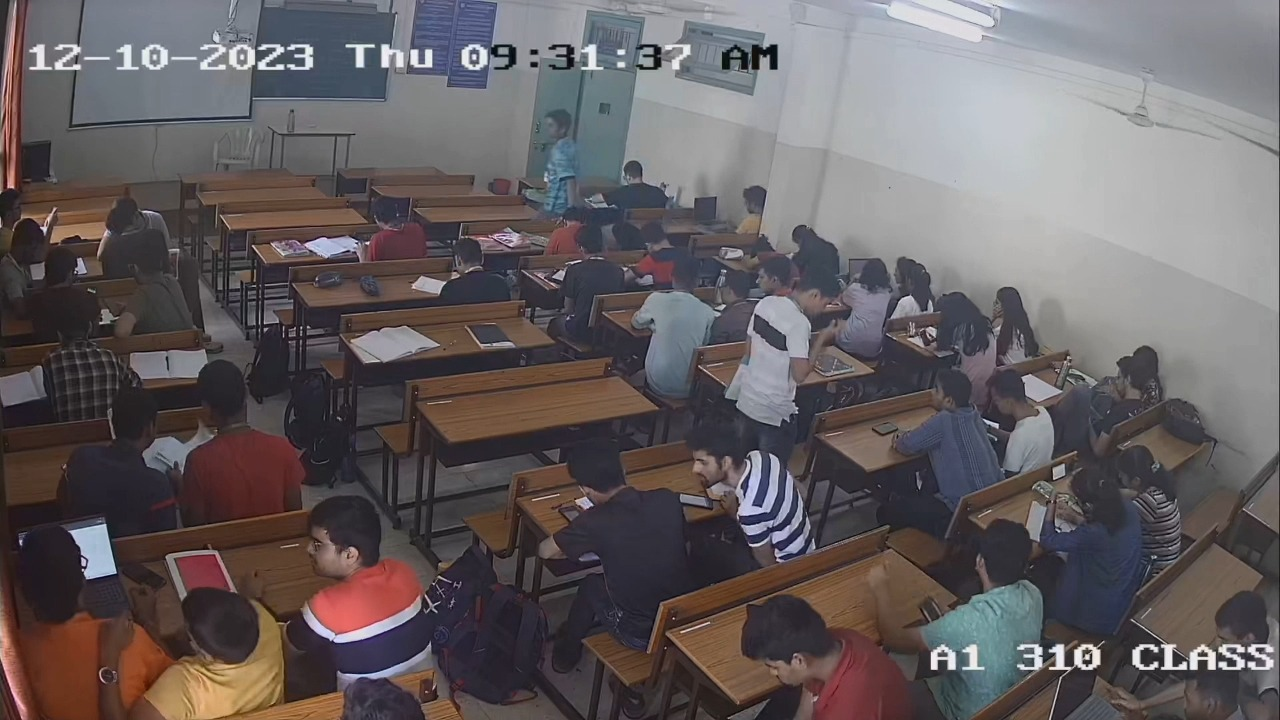cell-phones: (118, 559, 169, 595), (677, 491, 714, 515), (915, 596, 943, 625), (1044, 459, 1072, 485), (558, 502, 584, 525), (870, 421, 899, 438), (1065, 369, 1086, 383)
person: (868, 518, 1045, 702), (113, 575, 286, 720), (544, 444, 684, 593), (666, 418, 808, 561), (883, 367, 1002, 493), (1034, 464, 1143, 595), (1073, 358, 1150, 439)
